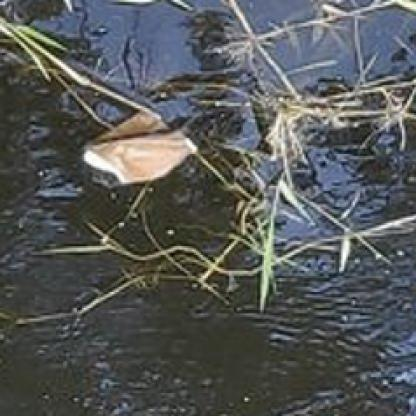Trash: (82, 132, 199, 185)
